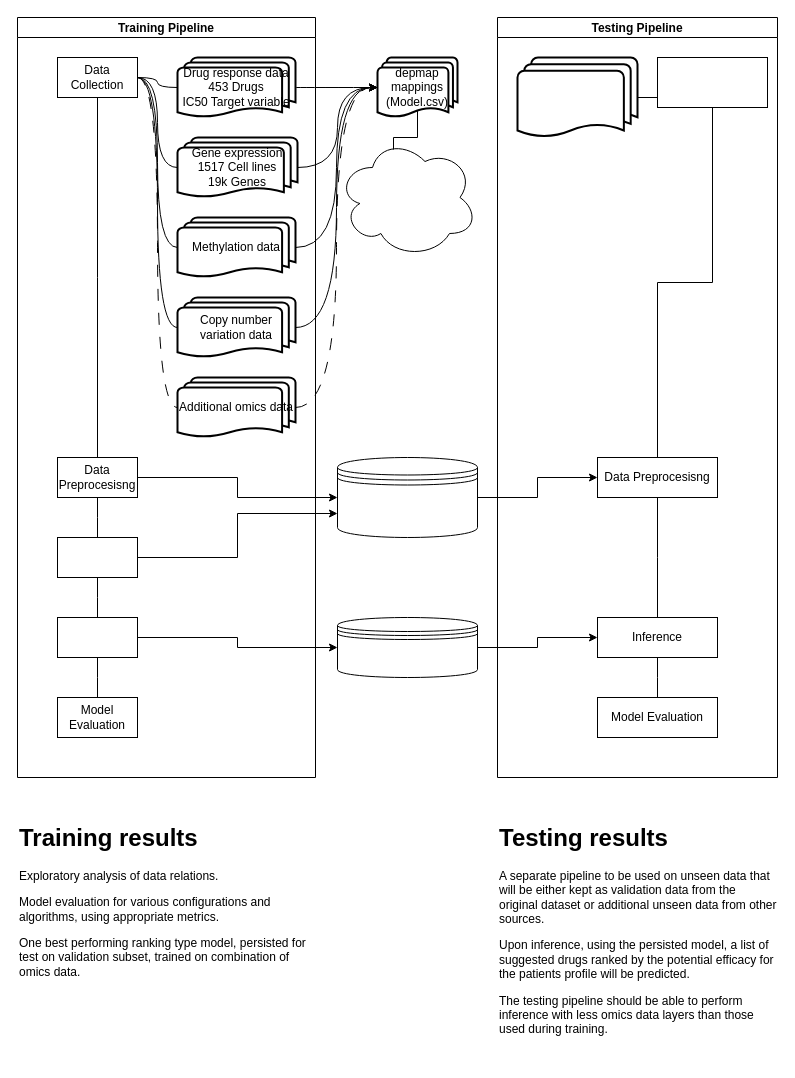
This 795x1078 diagram has some shape labels left out. Each missing label, with the centre of its shape:
1773 Patients 1959 Cell lines 187 Cancer types: the point at 407,197
Data Collection (Validation and new data): the point at 712,82
Feature Engineering: the point at 97,557
Model repository: the point at 407,647
Model Training: the point at 97,637
Patient profile (demographics, cancer type, genetic data, etc): the point at 577,97
Scalers, encoders, feature selectors repository: the point at 407,497
